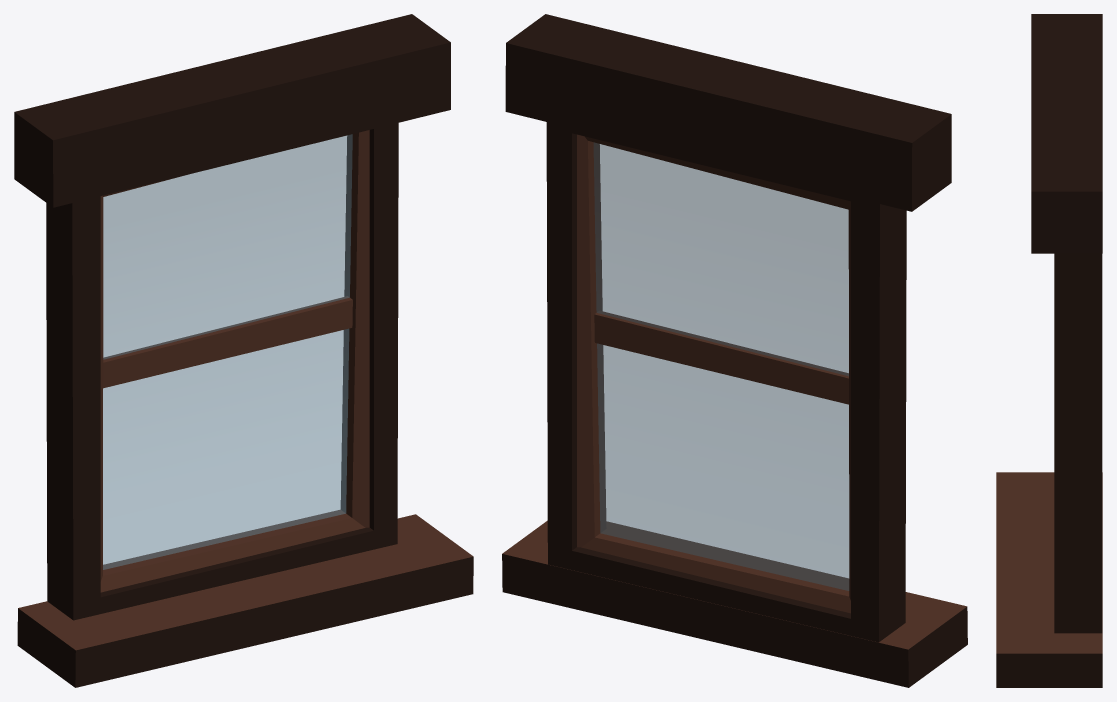
File: Window 1x2 V2 Closed.glb
The picture shows the model from 3 angles, left to right: view 1: azimuth 30°, elevation 25°; view 2: azimuth 150°, elevation 25°; view 3: azimuth 270°, elevation 25°; orthographic projection. The views are drawn at different scales.
Visible parts, largest first — view 1: Window 1x2 V2 Closed; view 2: Window 1x2 V2 Closed; view 3: Window 1x2 V2 Closed.
Boxes of the visible parts, x1,y1,x2,y2 form: Window 1x2 V2 Closed: (14,14,473,687); Window 1x2 V2 Closed: (502,14,967,687); Window 1x2 V2 Closed: (996,14,1102,687).
Bounding box in the file's own units: 1.42 × 1.82 × 0.3537.
2 materials, 2 textured.
